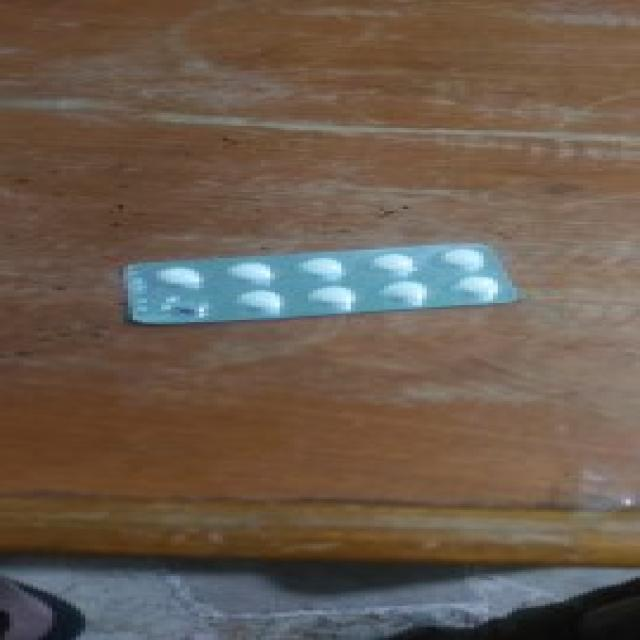Cacat: (124, 240, 528, 323)
Kemasan: (152, 298, 216, 320)
